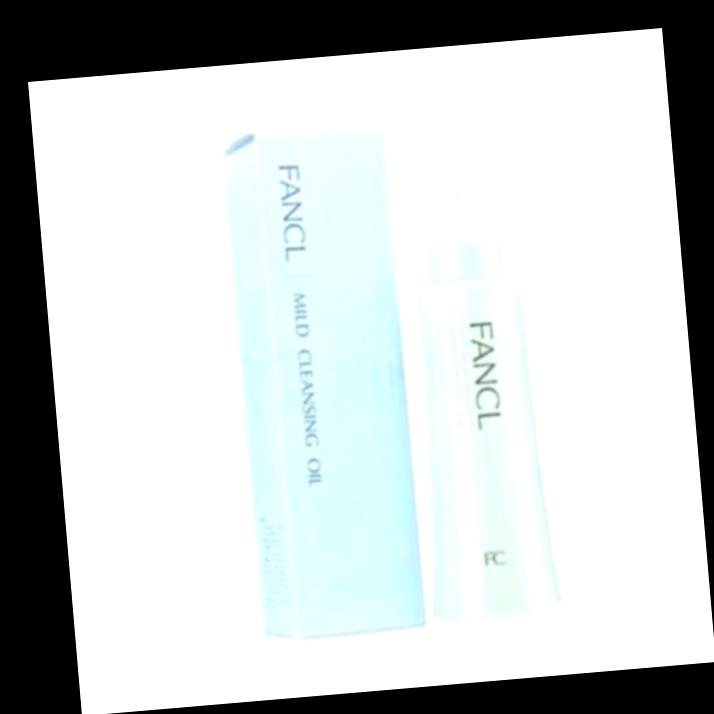cosmetic: (392, 131, 574, 618)
